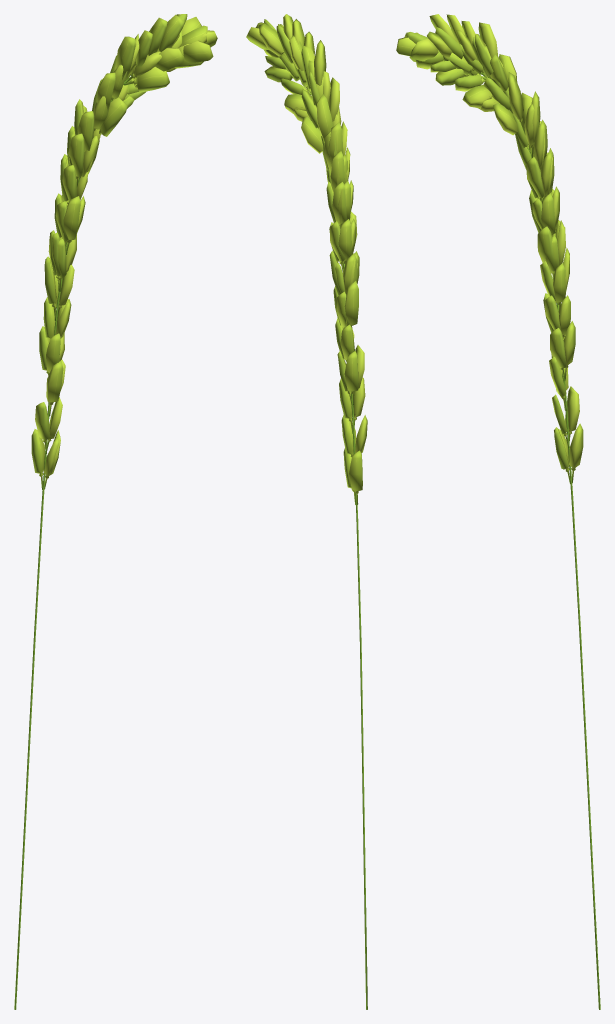
The model's file is RiceFlower9_LOD 1.fbx.
The picture shows the model from 3 angles, left to right: view 1: azimuth 90°, elevation 25°; view 2: azimuth 210°, elevation 25°; view 3: azimuth 270°, elevation 25°; orthographic projection. The views are drawn at different scales.
Visible parts, largest first — view 1: RiceFlower9_LOD0; view 2: RiceFlower9_LOD0; view 3: RiceFlower9_LOD0.
Boxes of the visible parts, box(x1,y1,x2,y2) form: RiceFlower9_LOD0: box(14, 14, 217, 1009); RiceFlower9_LOD0: box(246, 14, 367, 1009); RiceFlower9_LOD0: box(396, 14, 600, 1009).
Size of what is drawn, in the model's own units: 30.8 by 584 by 108.
Materials: 1 (1 with a texture image).
